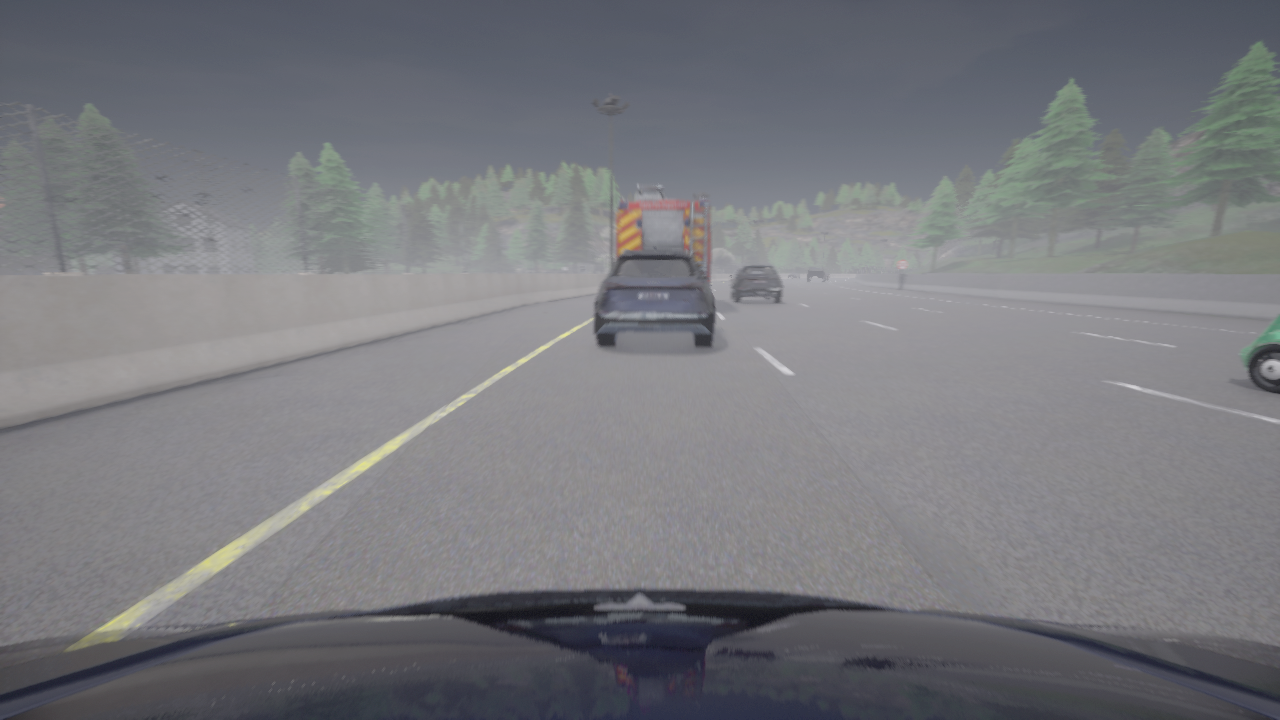cyclist: (0, 588, 1279, 719), (595, 246, 714, 347), (616, 184, 711, 284), (1239, 313, 1279, 393), (730, 263, 782, 303), (806, 267, 826, 282), (787, 272, 801, 279), (827, 273, 829, 278)
